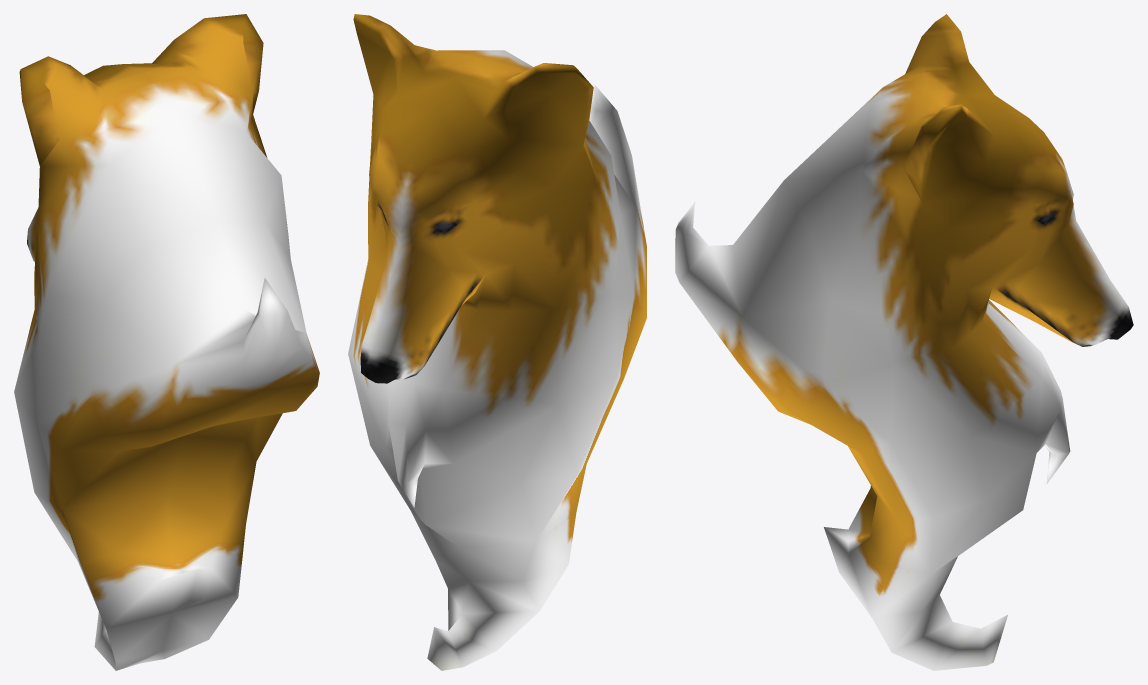
The model's file is icon.ico.obj.
The picture shows the model from 3 angles, left to right: view 1: azimuth 30°, elevation 25°; view 2: azimuth 150°, elevation 25°; view 3: azimuth 270°, elevation 25°; orthographic projection. The views are drawn at different scales.
Bounding box in the file's own units: 1.49 × 3.56 × 2.48.
1 material, 1 textured.
